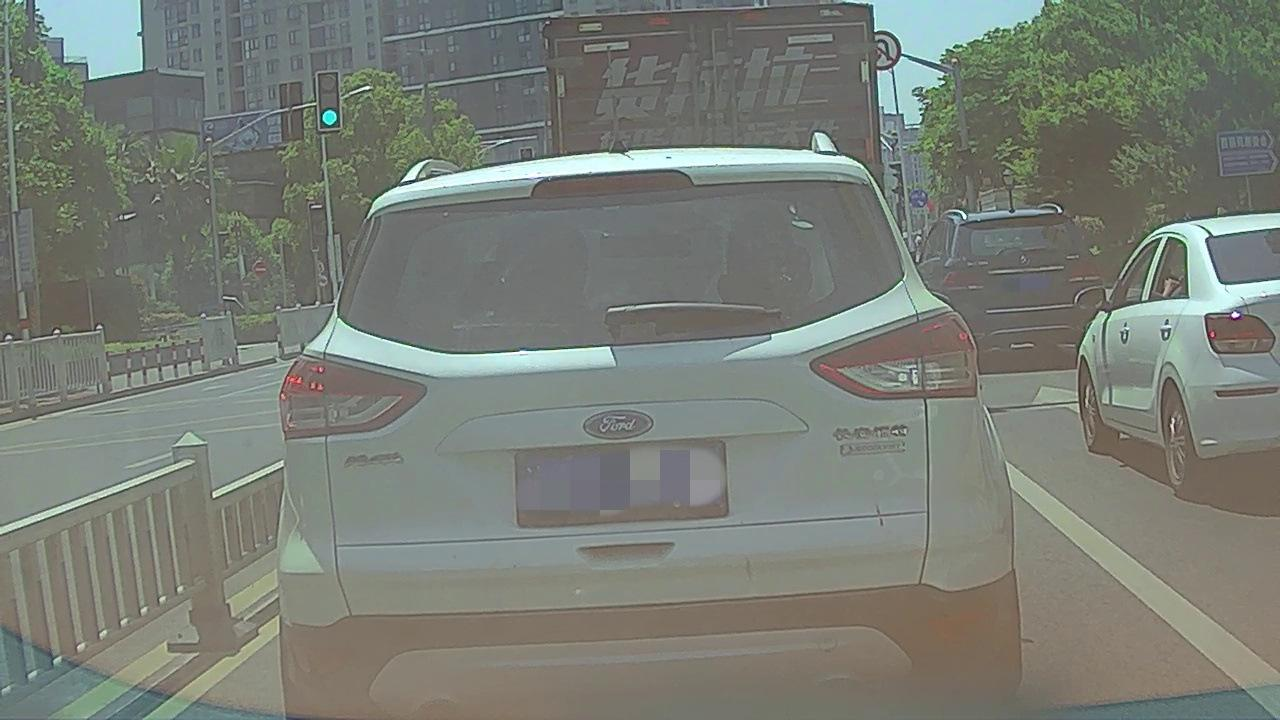traffic_light: (318, 74, 342, 129)
